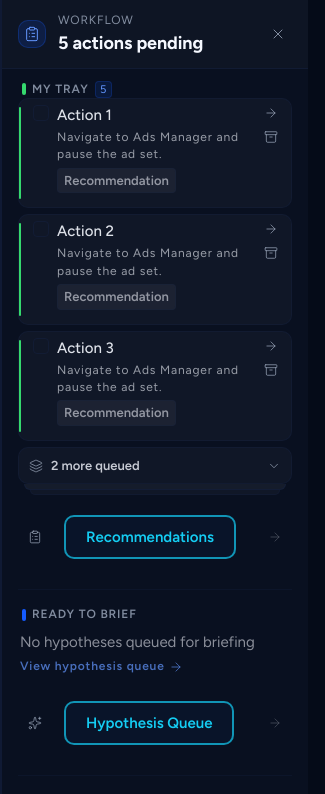
it: TaskTray: My Tray section › piles open items past the third behind a '+N more queued' face
Check: the text "Action 1" is shown, box x1=57 y1=106 x2=112 y2=124
Check: the text "Action 3" is shown, box x1=57 y1=339 x2=114 y2=357
Step 1. Click the button "2 more queued" → (95, 465), box x1=18 y1=447 x2=292 y2=484
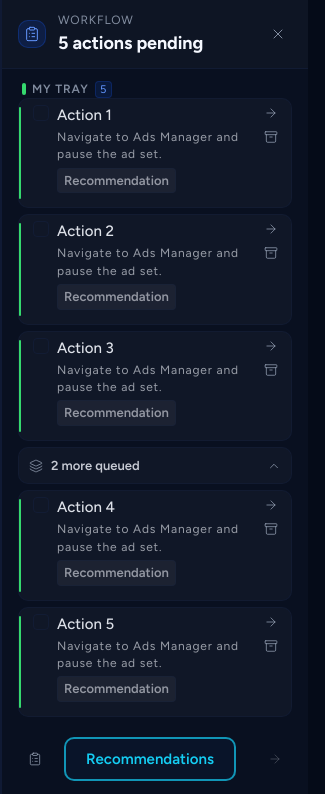
Check: the text "Action 4" is shown, box x1=57 y1=498 x2=115 y2=516
Check: the text "Action 5" is shown, box x1=57 y1=615 x2=114 y2=633
